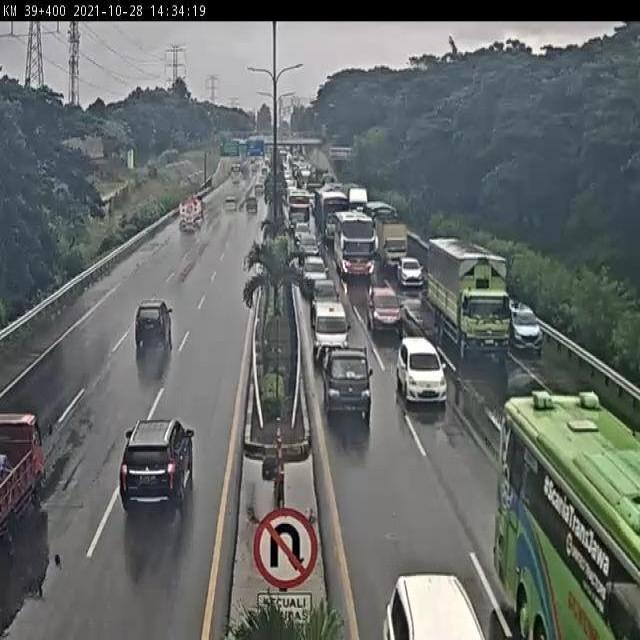big bus: (495, 386, 640, 640), (335, 210, 376, 278), (286, 190, 312, 230)
big truck: (425, 237, 514, 367), (319, 194, 350, 238), (176, 195, 207, 237)
car: (117, 415, 198, 517), (385, 574, 488, 640), (396, 334, 450, 410), (322, 347, 374, 424), (133, 297, 173, 351), (364, 284, 404, 336), (312, 298, 350, 351), (511, 302, 543, 354), (308, 279, 341, 312), (396, 255, 426, 289), (301, 254, 328, 290), (298, 232, 319, 257), (293, 219, 311, 245), (298, 230, 321, 250)
small truck: (0, 410, 46, 546), (376, 219, 409, 269)
